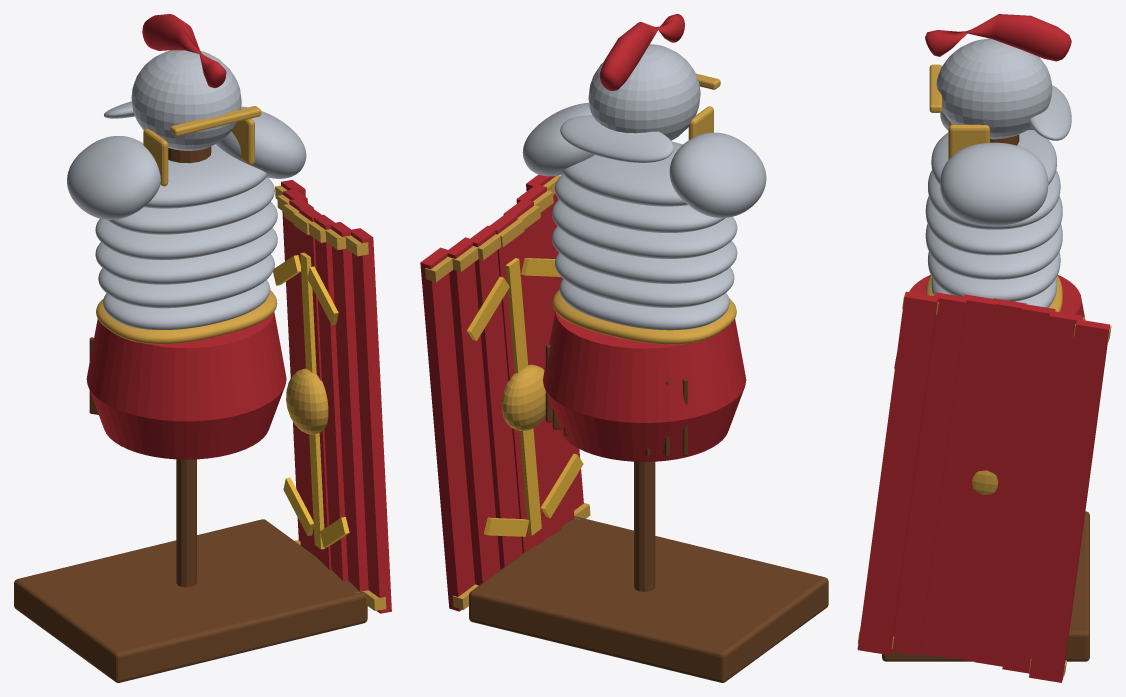
Rendered from legionario.glb.
3 views of the same model, side by side, from view 1: azimuth 30°, elevation 25°; view 2: azimuth 150°, elevation 25°; view 3: azimuth 270°, elevation 25° (orthographic).
Visible parts, largest first — view 1: peana, faldellin, escudo6, casco, escudo5, hombrera-1, escudo4, lamina3, lamina2, lamina5, lamina1, lamina4 (+17 smaller); view 2: peana, faldellin, escudo0, escudo1, casco, escudo2, hombrera-1, lamina3, lamina2, lamina1, lamina5, escudo4 (+17 smaller); view 3: escudo0, escudo6, escudo4, escudo2, escudo5, escudo1, escudo3, casco, hombrera1, lamina3, penacho, lamina2 (+10 smaller).
Boxes of the visible parts, bbox=[...] form: peana: bbox=[14, 519, 367, 682]; faldellin: bbox=[86, 312, 286, 459]; escudo6: bbox=[349, 228, 391, 613]; casco: bbox=[131, 50, 241, 150]; escudo5: bbox=[330, 222, 368, 591]; hombrera-1: bbox=[67, 136, 160, 219]; escudo4: bbox=[313, 214, 348, 580]; lamina3: bbox=[95, 202, 277, 260]; lamina2: bbox=[95, 228, 277, 284]; lamina5: bbox=[144, 144, 267, 208]; lamina1: bbox=[98, 254, 274, 308]; lamina4: bbox=[107, 177, 274, 234]; peana: bbox=[469, 516, 828, 682]; faldellin: bbox=[543, 311, 746, 461]; escudo0: bbox=[420, 247, 475, 611]; escudo1: bbox=[447, 237, 500, 585]; casco: bbox=[588, 44, 700, 140]; escudo2: bbox=[470, 225, 522, 569]; hombrera-1: bbox=[669, 132, 766, 217]; lamina3: bbox=[552, 200, 737, 258]; lamina2: bbox=[552, 226, 737, 283]; lamina1: bbox=[554, 253, 734, 307]; lamina5: bbox=[562, 141, 687, 206]; escudo4: bbox=[503, 199, 561, 538]; escudo0: bbox=[1029, 319, 1109, 682]; escudo6: bbox=[857, 291, 938, 655]; escudo4: bbox=[920, 294, 995, 657]; escudo2: bbox=[974, 304, 1055, 666]; escudo5: bbox=[891, 292, 966, 655]; escudo1: bbox=[1002, 311, 1083, 673]; escudo3: bbox=[949, 298, 1026, 661]; casco: bbox=[936, 38, 1052, 139]; hombrera1: bbox=[940, 142, 1048, 225]; lamina3: bbox=[925, 196, 1062, 255]; penacho: bbox=[925, 14, 1071, 61]; lamina2: bbox=[925, 224, 1062, 279].
Bounding box in the file's own units: 0.682 × 1.33 × 0.519.
